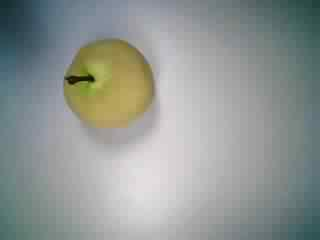pear: (49, 31, 163, 134)
